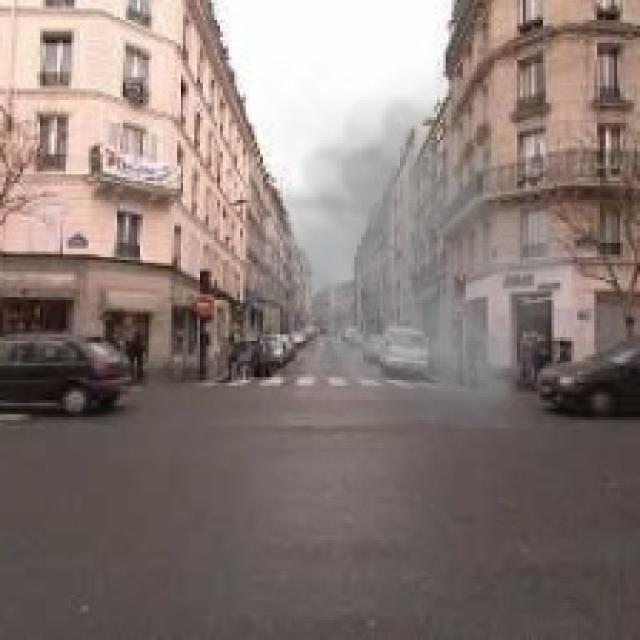Smoke: (225, 54, 600, 429)
